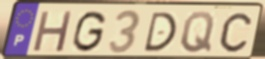3: (107, 9, 143, 56)
C: (218, 11, 253, 54)
D: (142, 11, 179, 54)
G: (70, 10, 108, 55)
H: (31, 9, 76, 53)
Q: (178, 10, 216, 54)
